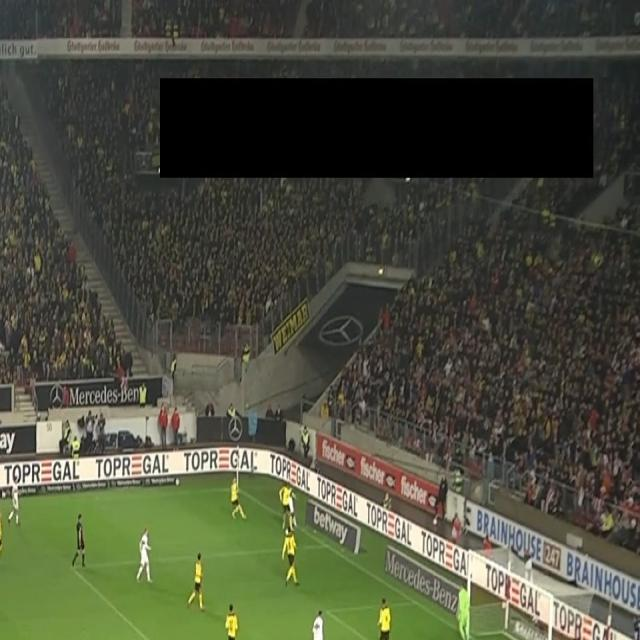ball: (284, 524, 291, 538)
